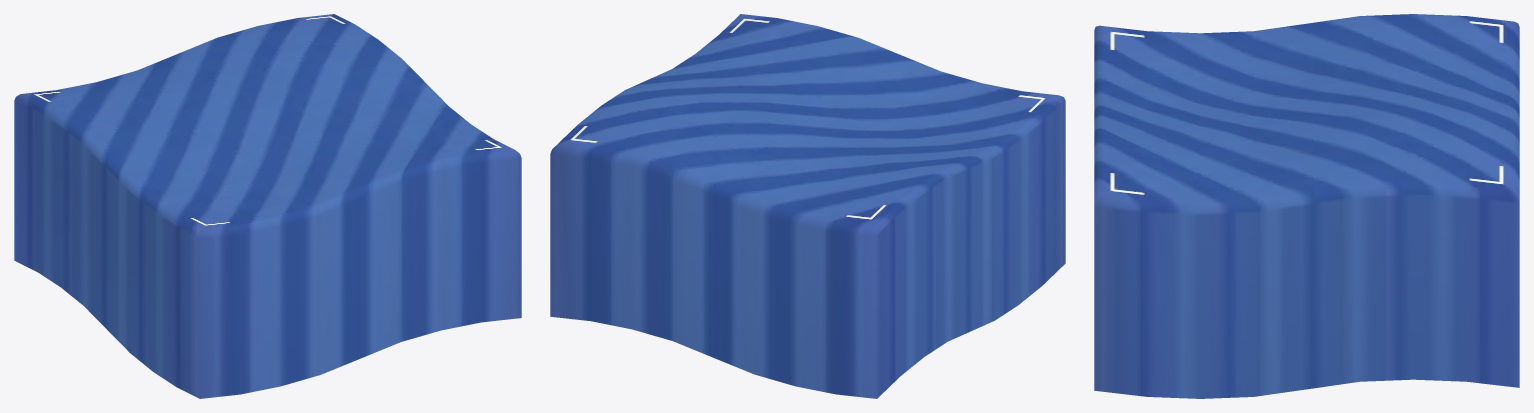
File: water.glb
3 renders of one model, left to right at view 1: azimuth 30°, elevation 25°; view 2: azimuth 150°, elevation 25°; view 3: azimuth 270°, elevation 25°, orthographic. The views are drawn at different scales.
Visible parts, largest first — view 1: waterBlock; view 2: waterBlock; view 3: waterBlock.
Boxes of the visible parts, x1,y1,x2,y2 form: waterBlock: (14, 14, 521, 398); waterBlock: (550, 14, 1065, 398); waterBlock: (1094, 14, 1519, 398).
Bounding box in the file's own units: 2 × 1.16 × 2.
Materials: 1 (1 with a texture image).
